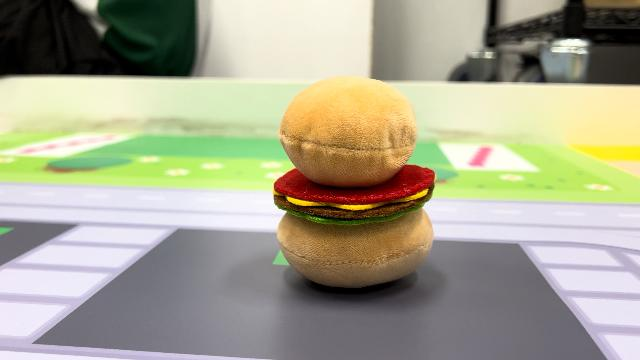burger: (267, 72, 441, 290)
